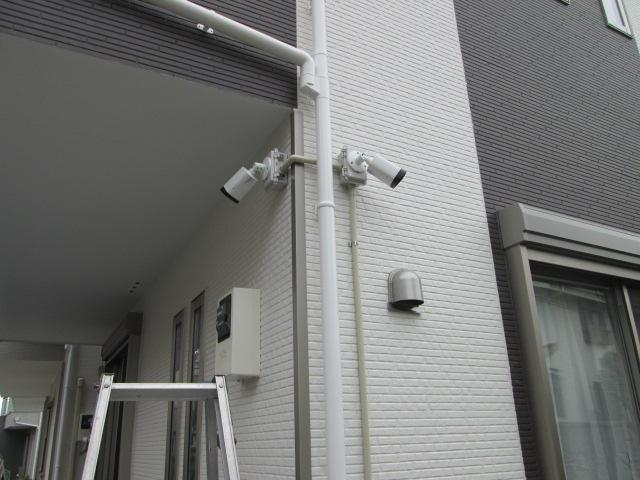tutu: (358, 149, 425, 198), (220, 149, 269, 212)
